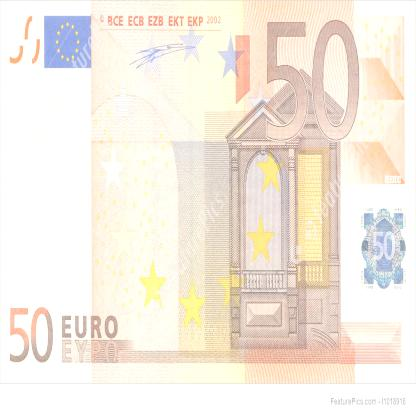euro_banknote: (4, 3, 415, 385)
